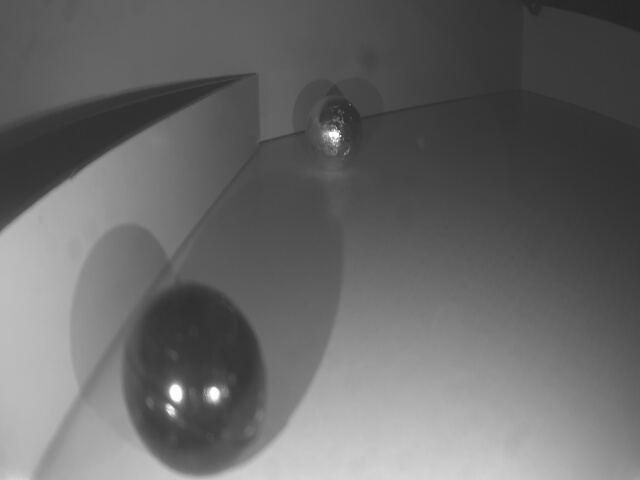Dead: (121, 289, 267, 472)
Live: (305, 98, 366, 173)
Red: (0, 75, 260, 480)
